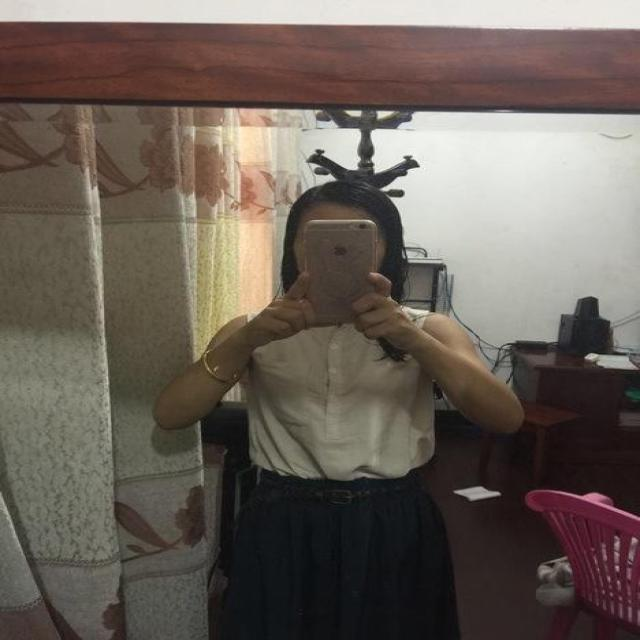skirt: (209, 469, 459, 638)
vest: (245, 303, 435, 483)
